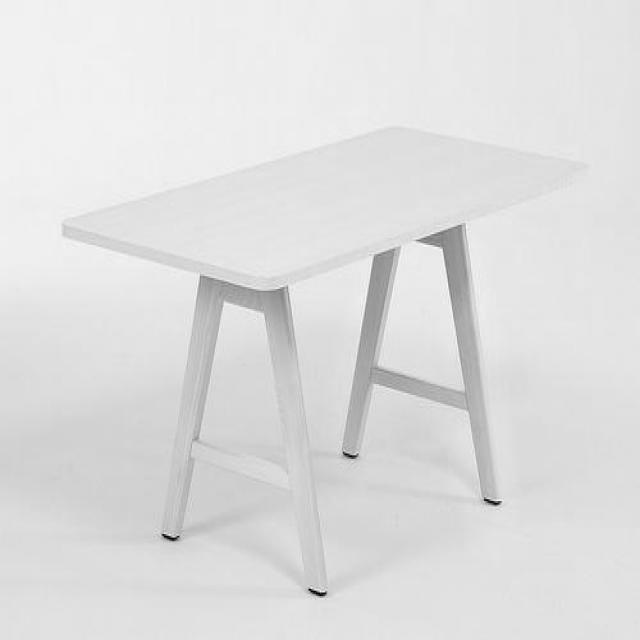table: (62, 124, 590, 596)
